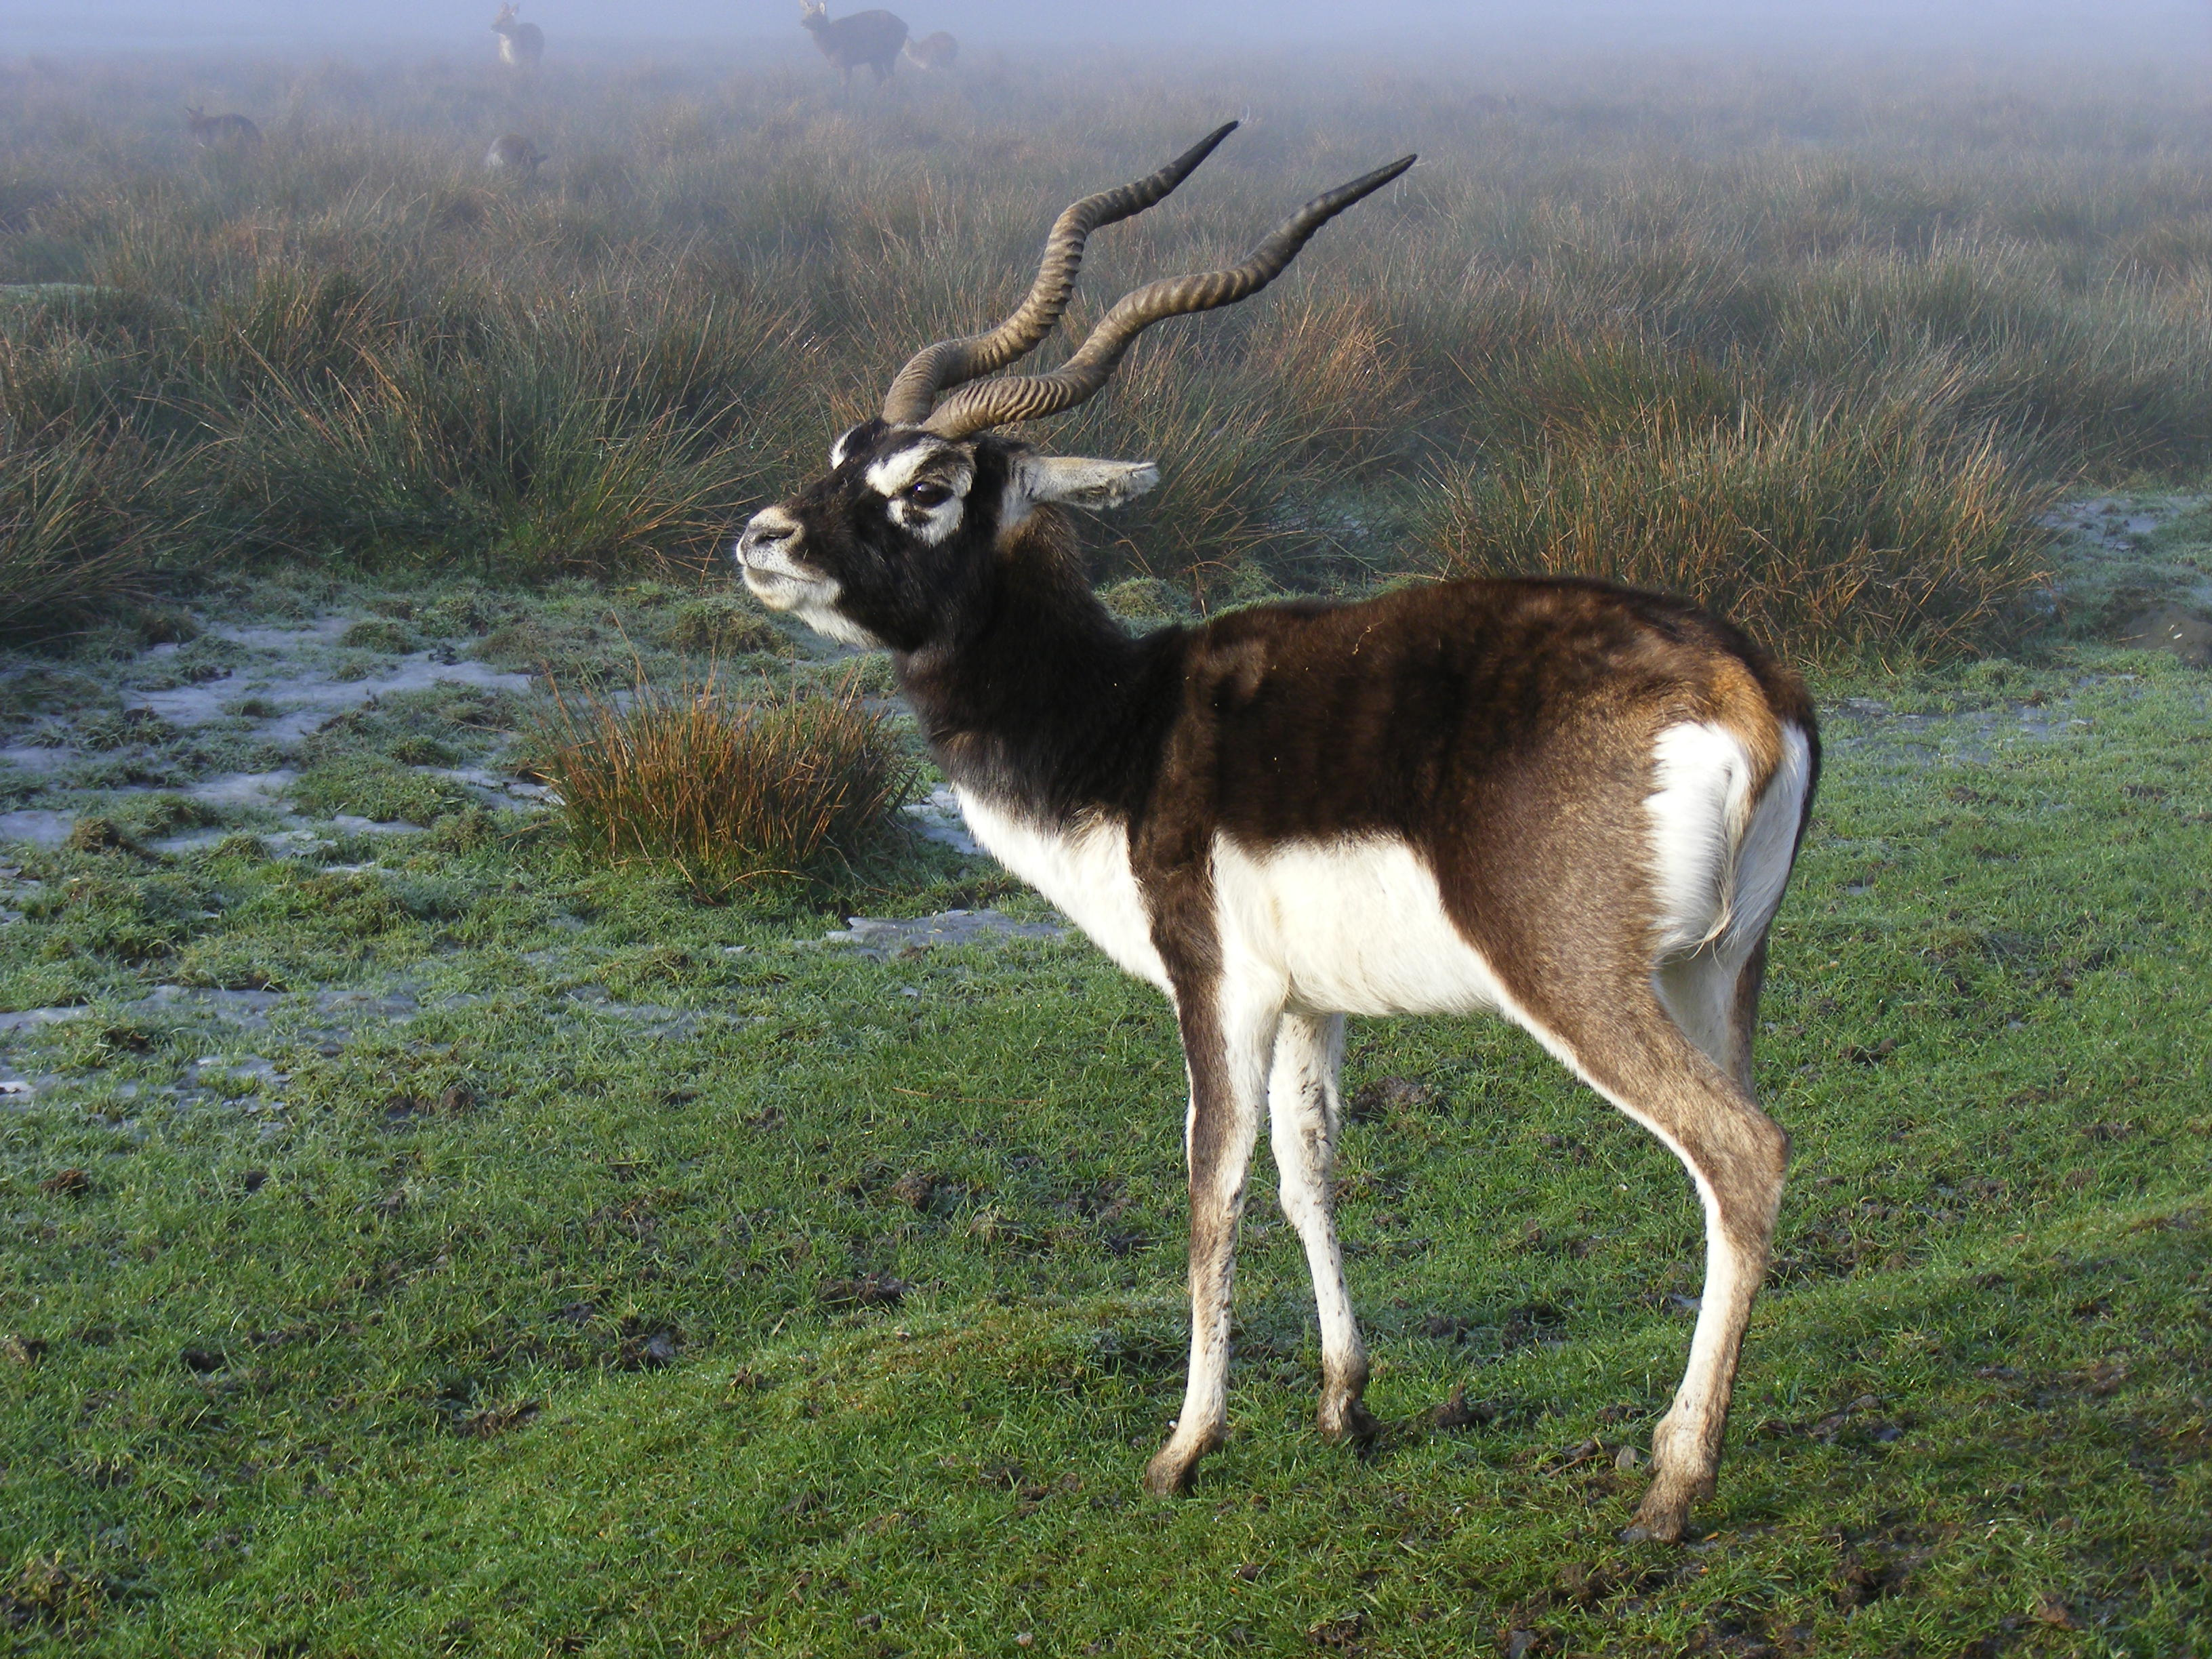Blackbuck: (732, 120, 1832, 1551)
